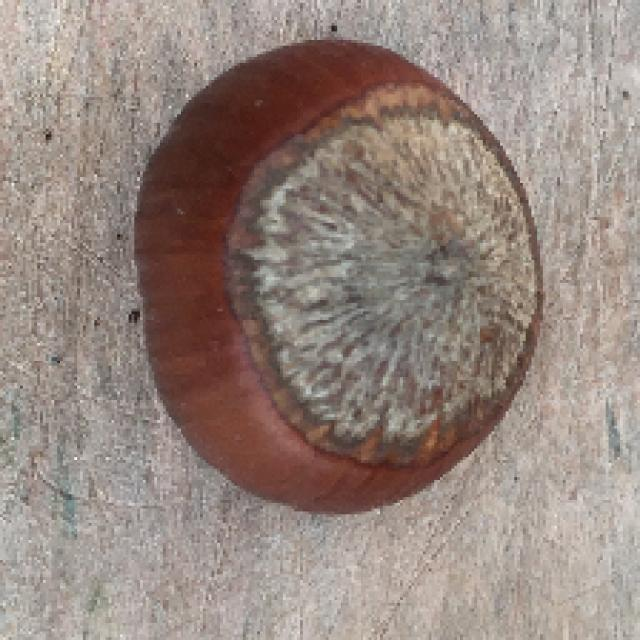qualityHazelnut: (136, 42, 546, 517)
